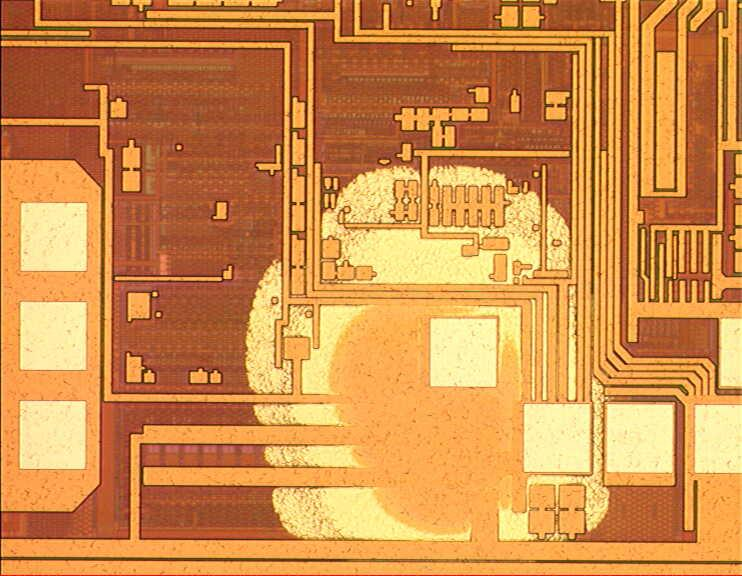BLOCK ETCH: (239, 161, 639, 545)
